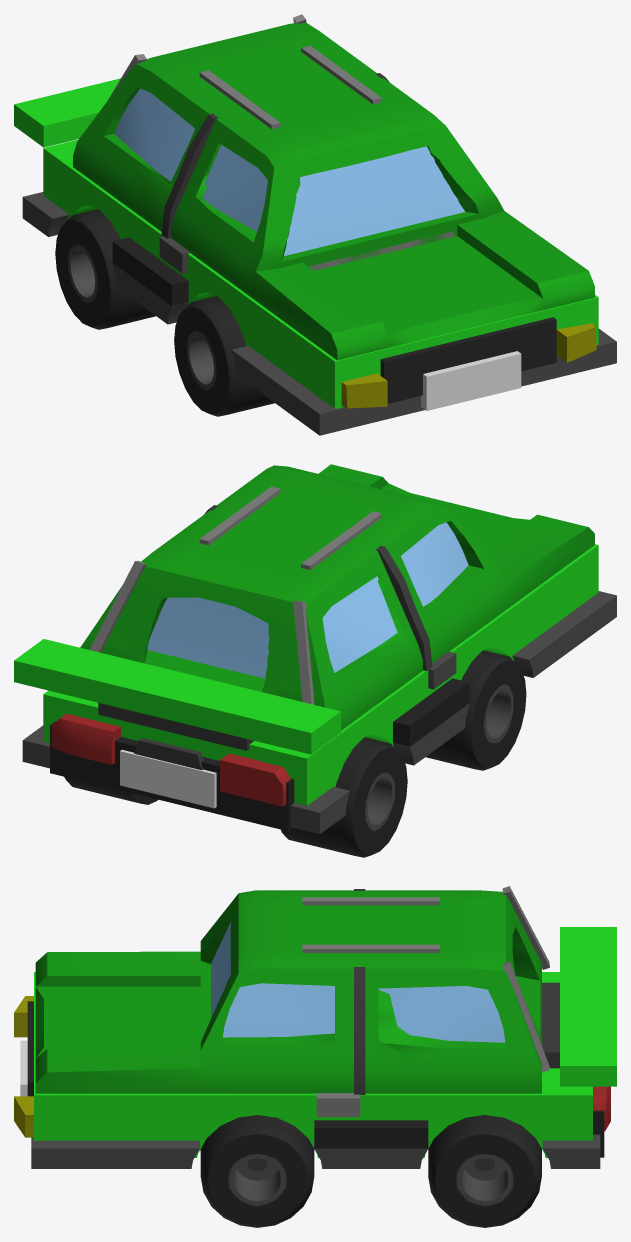
File: car3.obj
The picture shows the model from 3 angles, top to bottom: view 1: azimuth 30°, elevation 25°; view 2: azimuth 150°, elevation 25°; view 3: azimuth 270°, elevation 25°; orthographic projection. The views are drawn at different scales.
Parts seen in each view (by area): view 1: group1 polySurface9, group1 pCube21, group1 polySurface1, group1 polySurface3, group1 pCube25, group1 pPipe5, group1 pPipe7, group1 pCube22, group1 pCube8, group1 pCube13, group1 pCube29, group1 pCube41 (+7 smaller); view 2: group1 polySurface9, group1 polySurface1, group1 pCube22, group1 pCube21, group1 polySurface3, group1 pPipe7, group1 pPipe5, group1 pCube38, group1 pCube33, group1 pCube42, group1 pCube13, group1 pCube39 (+11 smaller); view 3: group1 polySurface9, group1 polySurface1, group1 pCube21, group1 pCube22, group1 polySurface3, group1 pPipe1, pPipe3 group1, group1 pCube13, group1 pPipe2, group1 pPipe4, group1 pCube29, group1 pCube18 (+11 smaller).
Part boxes in pixels (<box>): group1 polySurface9: <box>73,22,594,360</box>; group1 pCube21: <box>114,89,465,255</box>; group1 polySurface1: <box>43,139,598,408</box>; group1 polySurface3: <box>22,192,616,435</box>; group1 pCube25: <box>380,317,556,403</box>; group1 pPipe5: <box>174,296,274,416</box>; group1 pPipe7: <box>55,209,155,329</box>; group1 pCube22: <box>14,78,120,147</box>; group1 pCube8: <box>421,351,521,410</box>; group1 pCube13: <box>112,237,188,305</box>; group1 pCube29: <box>161,73,389,238</box>; group1 pCube41: <box>341,373,387,408</box>; group1 polySurface9: <box>80,464,594,730</box>; group1 polySurface1: <box>43,544,598,805</box>; group1 pCube22: <box>14,639,340,754</box>; group1 pCube21: <box>147,522,468,678</box>; group1 polySurface3: <box>22,591,616,834</box>; group1 pPipe7: <box>281,737,407,857</box>; group1 pPipe5: <box>425,650,526,770</box>; group1 pCube38: <box>50,721,294,831</box>; group1 pCube33: <box>120,749,216,808</box>; group1 pCube42: <box>220,753,290,806</box>; group1 pCube13: <box>393,678,469,746</box>; group1 pCube39: <box>51,713,120,764</box>; group1 polySurface9: <box>35,890,541,1093</box>; group1 polySurface1: <box>34,972,592,1157</box>; group1 pCube21: <box>211,921,505,1042</box>; group1 pCube22: <box>560,927,616,1086</box>; group1 polySurface3: <box>31,1134,600,1168</box>; group1 pPipe1: <box>200,1115,314,1227</box>; pPipe3 group1: <box>428,1115,541,1227</box>; group1 pCube13: <box>314,1120,428,1148</box>; group1 pPipe2: <box>228,1154,286,1206</box>; group1 pPipe4: <box>455,1154,513,1206</box>; group1 pCube29: <box>354,889,365,1094</box>; group1 pCube18: <box>542,982,559,1068</box>.
Size of the model in its own units: 2.89 by 2.32 by 5.3.
